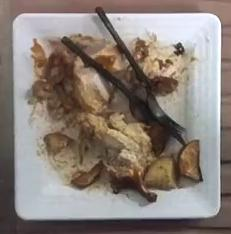chicken: (71, 110, 168, 202), (45, 48, 110, 113)
potato: (144, 140, 202, 190)
